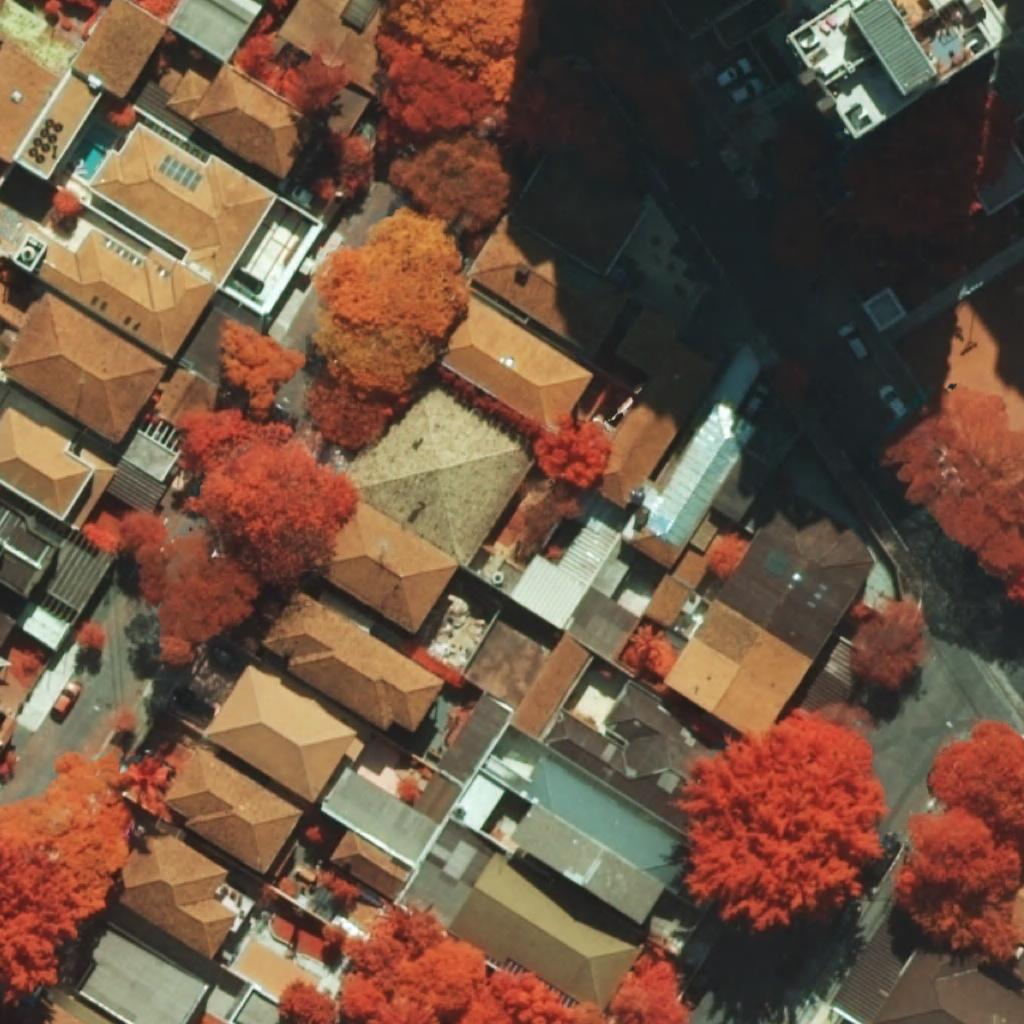pool: (70, 121, 118, 181)
